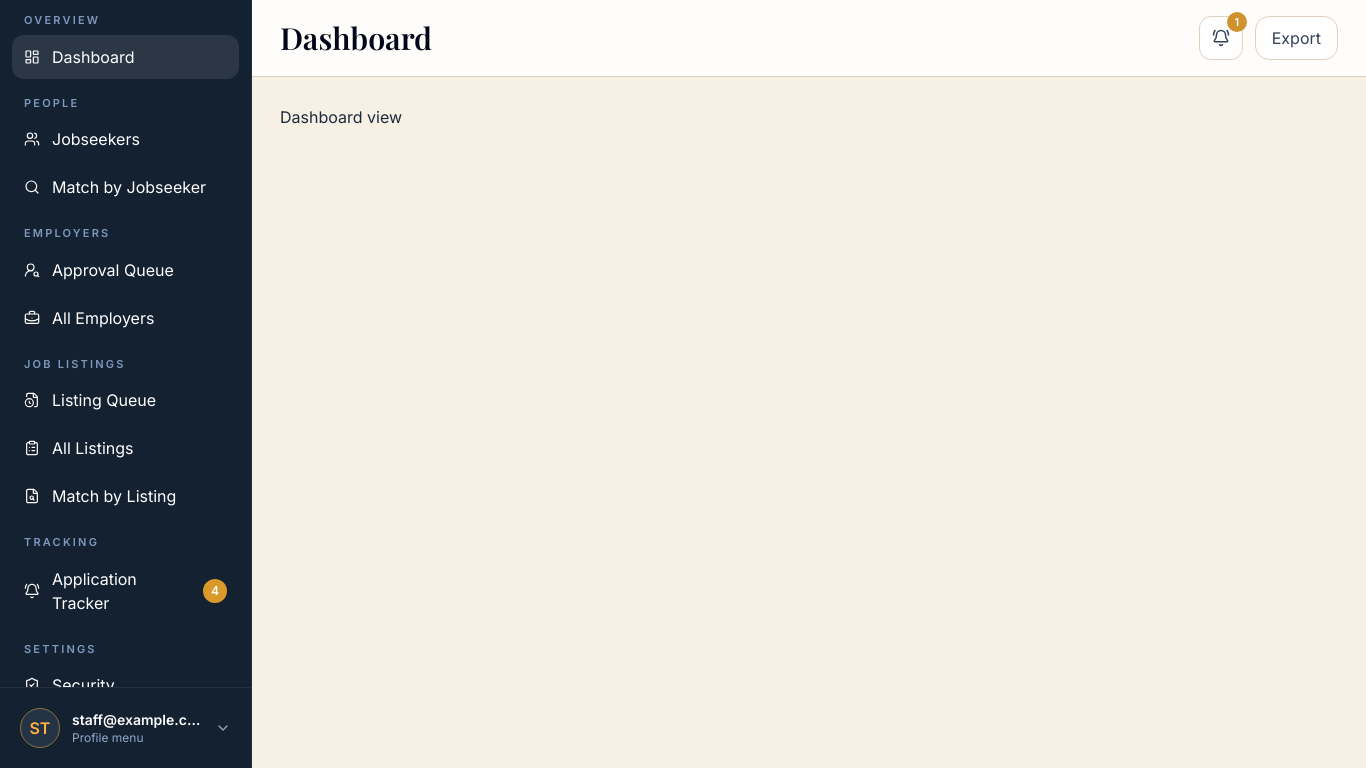
Scenario: admin shell keeps the bell badge in sync across live updates and navigation without mirroring it in the nav
The width and height of the screenshot is (1366, 768).
Expected: the text "Dashboard view" is shown, x1=280 y1=107 x2=402 y2=127
Expected: the text "4" is shown, x1=203 y1=578 x2=227 y2=602
Click the button named "notifications". click: (1221, 38)
box: x1=1199 y1=16 x2=1243 y2=60
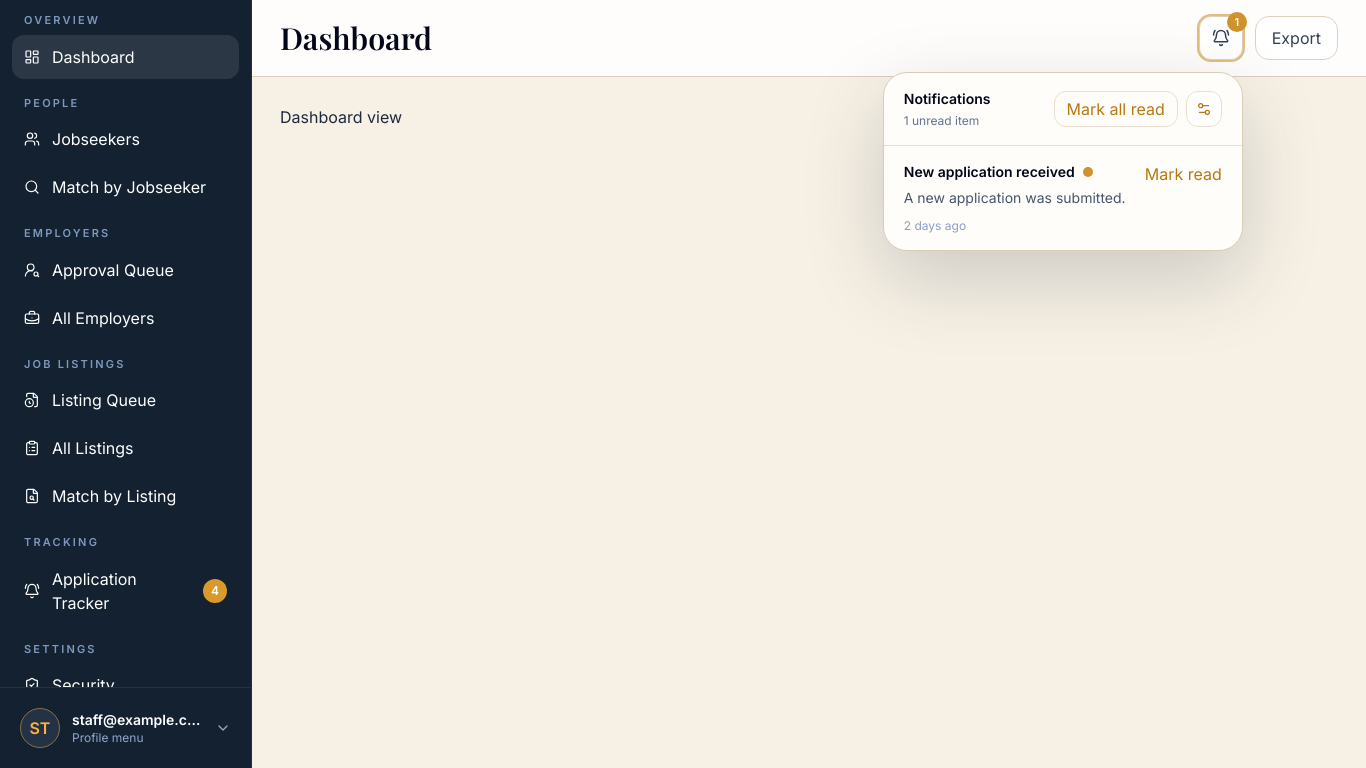
Now the text "New application received" is shown, box x1=904 y1=162 x2=1075 y2=182
Now the text "1 unread item" is shown, box x1=904 y1=113 x2=990 y2=129
Click the link "Application Tracker 4". click: (126, 590)
box: x1=12 y1=556 x2=239 y2=624
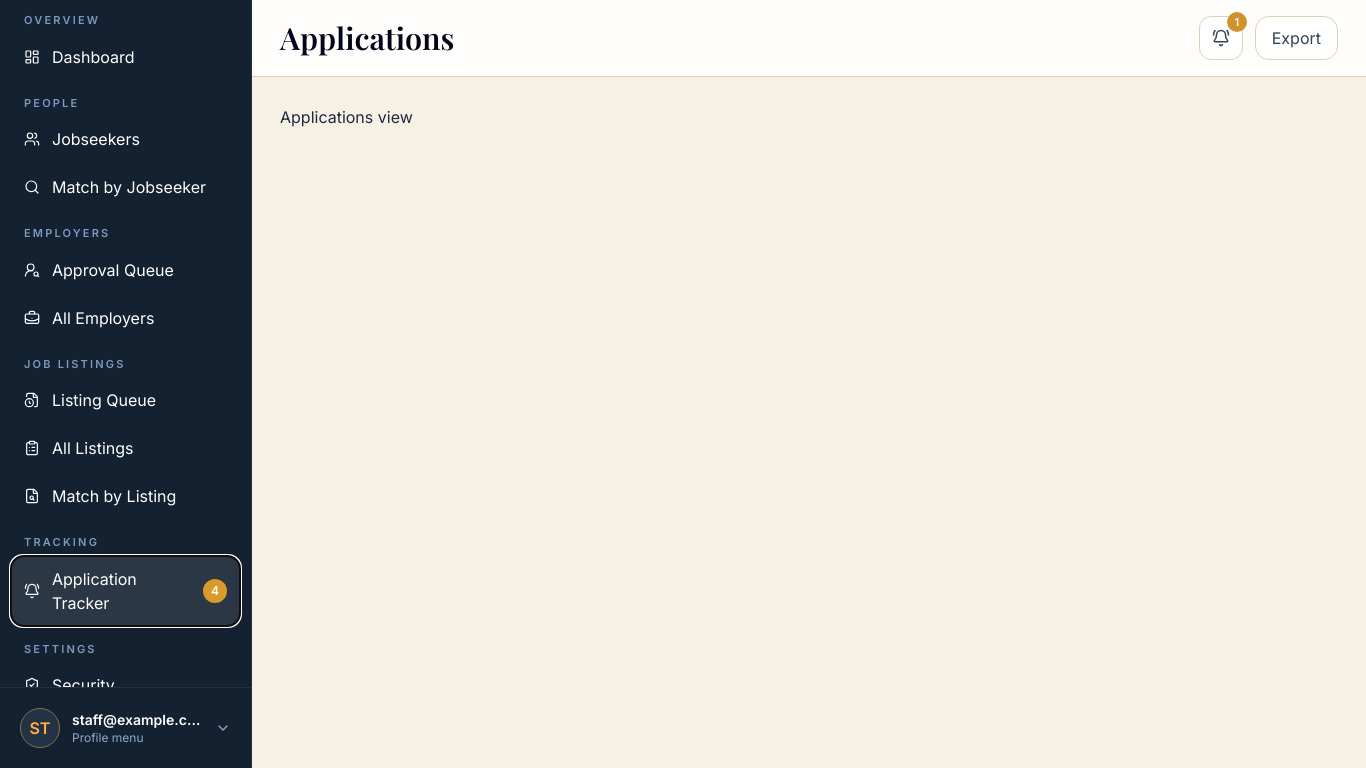
Now the text "Applications view" is shown, box x1=280 y1=107 x2=413 y2=127
Click the button named "notifications". click: (1221, 38)
box: x1=1199 y1=16 x2=1243 y2=60
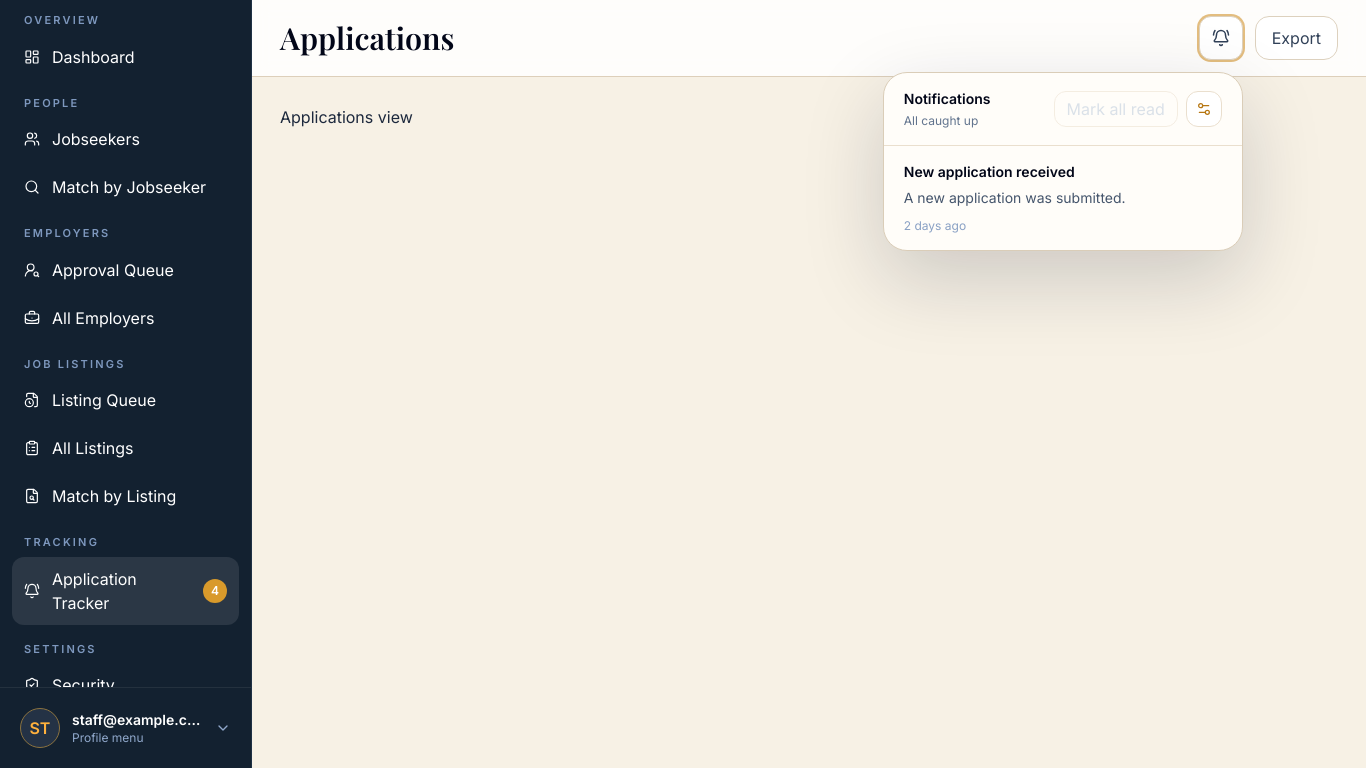
Now the text "New application received" is shown, box x1=904 y1=162 x2=1075 y2=182
Now the text "All caught up" is shown, box x1=904 y1=113 x2=990 y2=129
